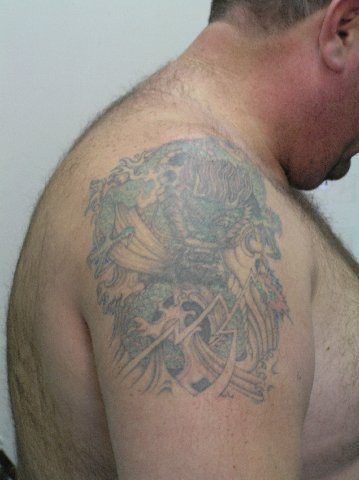tatu6_drakon: (77, 135, 307, 423)
